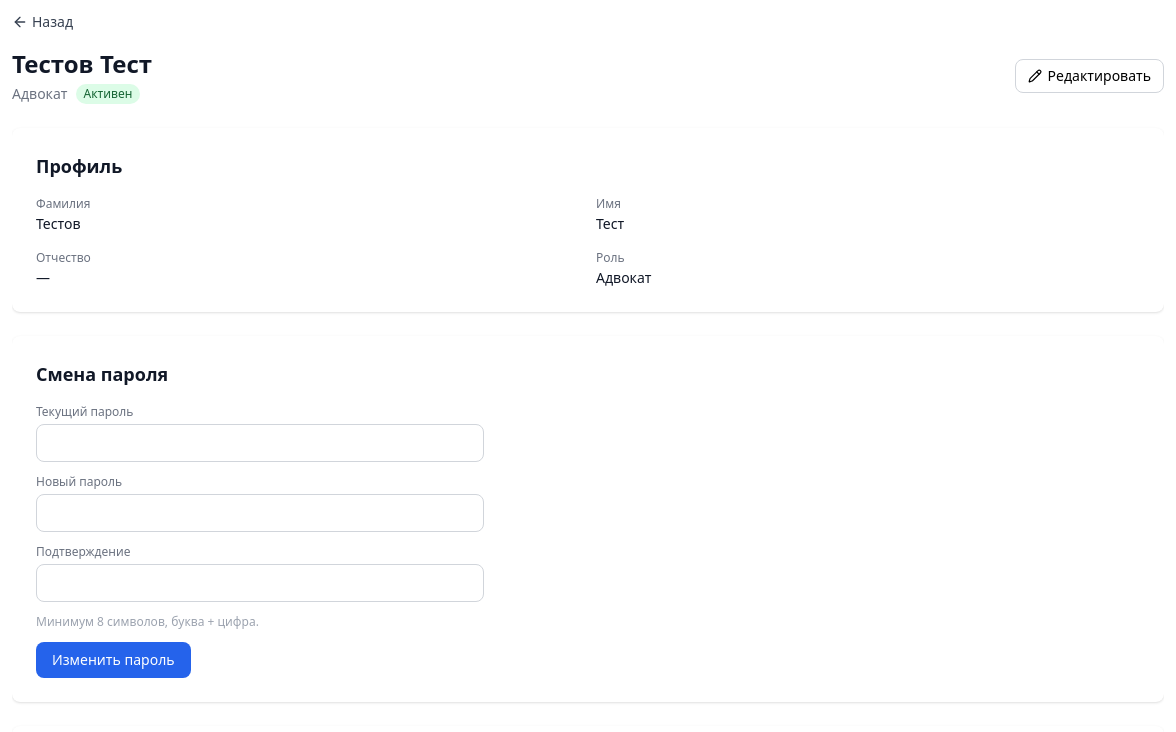
Test: Change password › validates letter + digit requirement
Expected: the password field labelled "Новый пароль" is shown, [36, 494, 484, 532]
In the password field labelled "Текущий пароль": (260, 443) [36, 424, 484, 462], type "OldPass1"
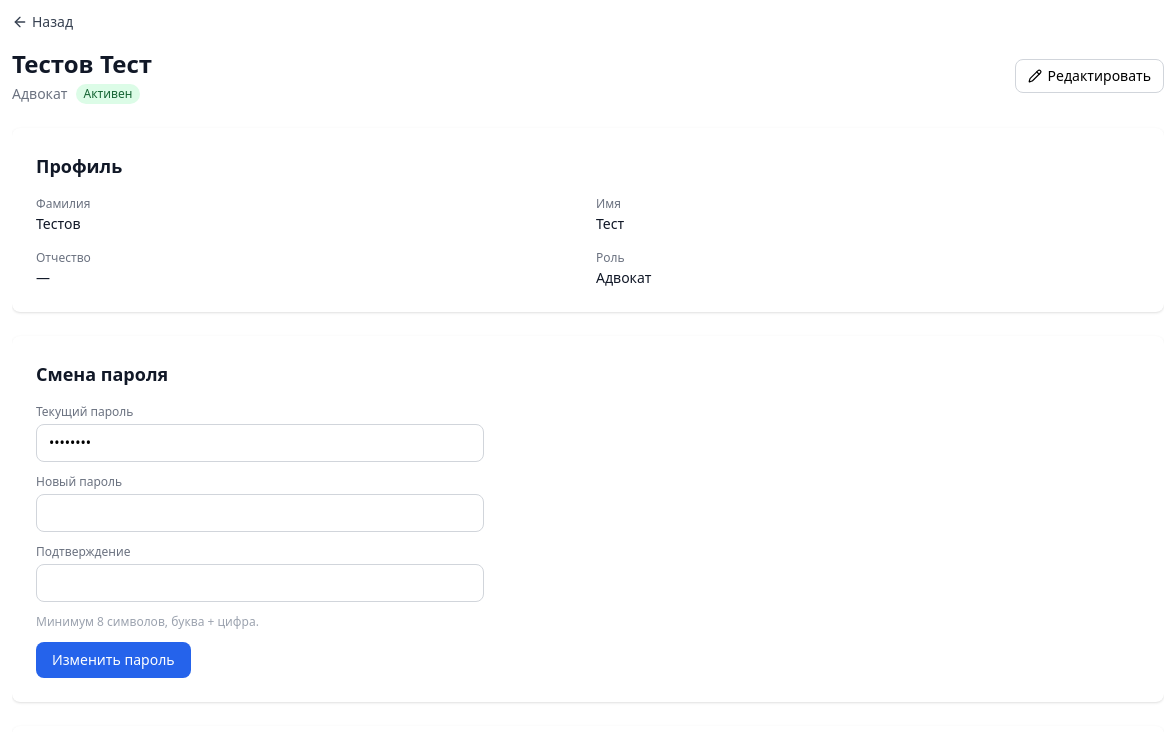
In the password field labelled "Новый пароль": (260, 513) [36, 494, 484, 532], type "abcdefgh"
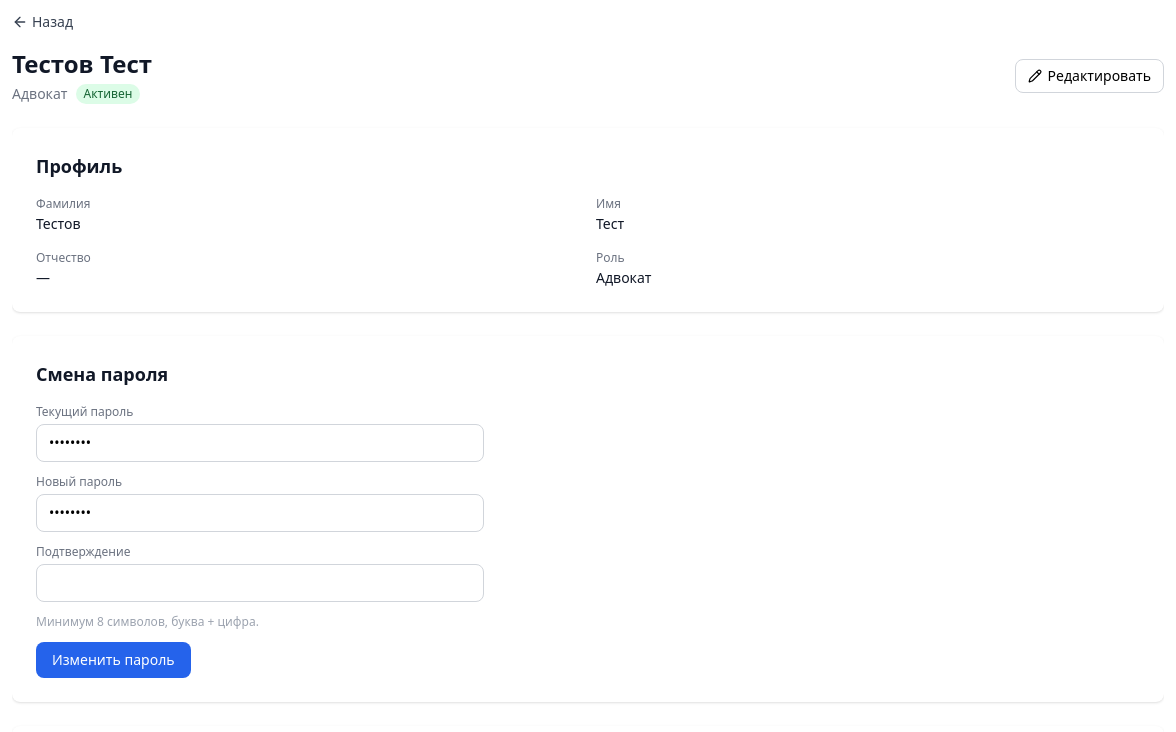
In the password field labelled "Подтверждение": (260, 583) [36, 564, 484, 602], type "abcdefgh"
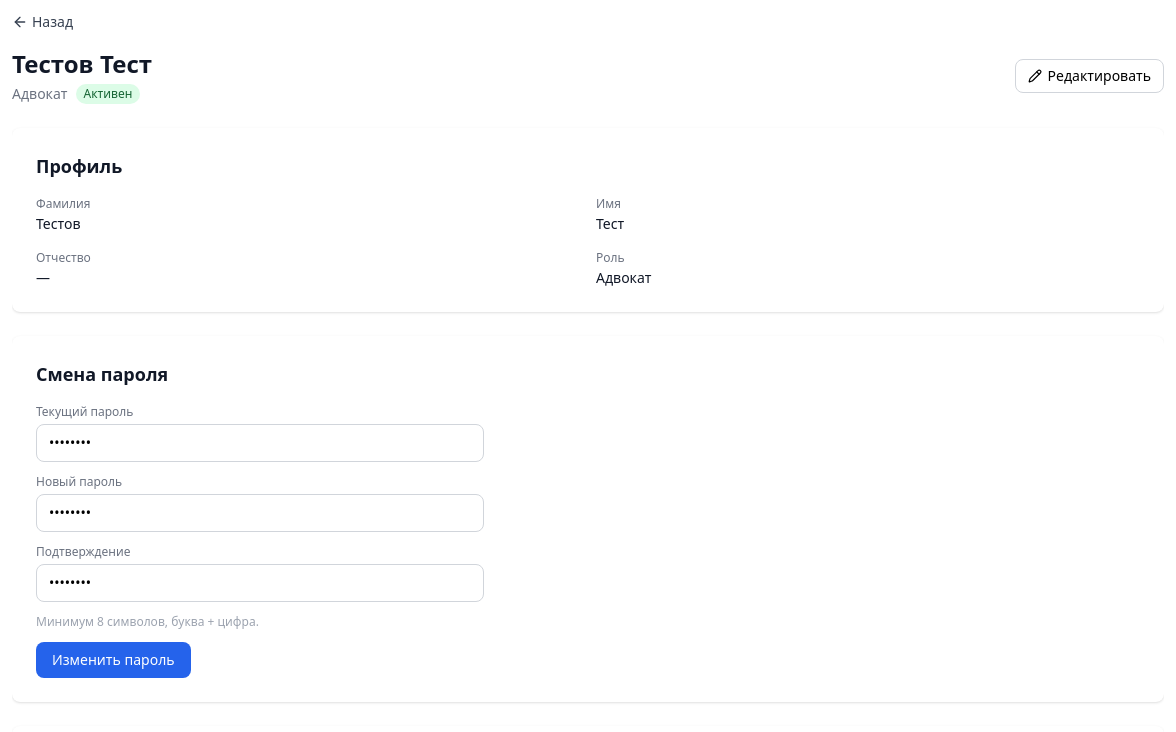
Click the button "Изменить пароль": (113, 660) [36, 642, 191, 678]
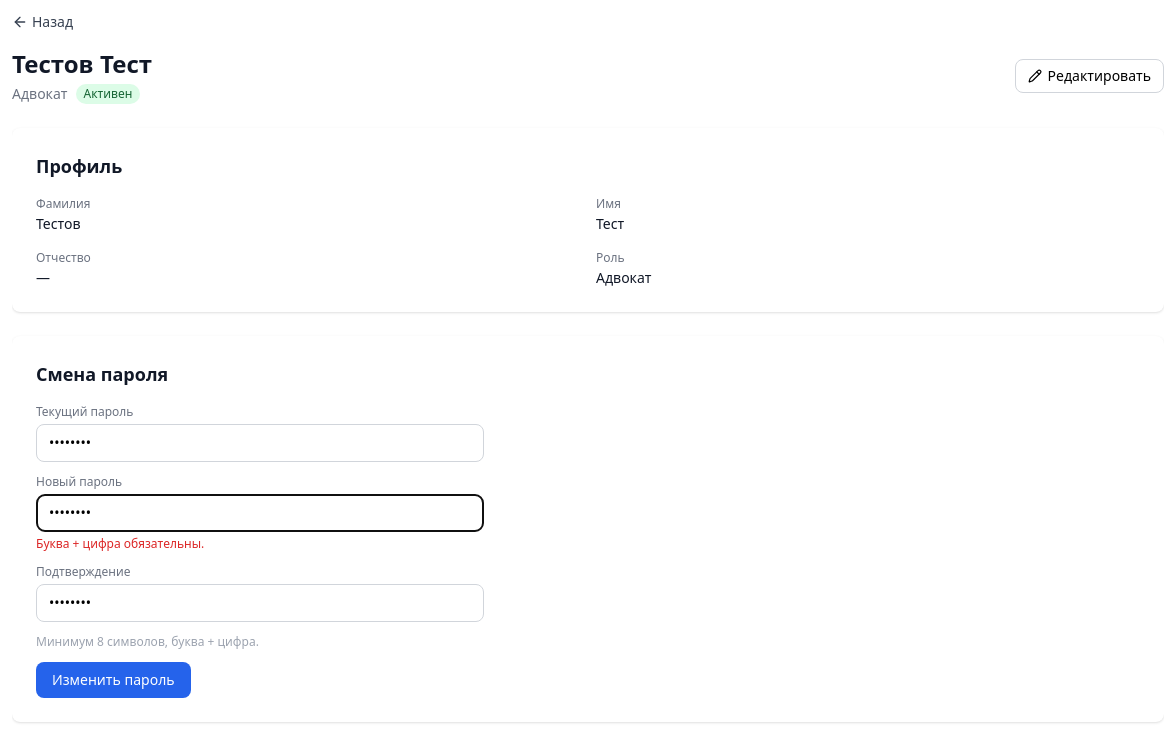
Result: the text "Буква + цифра обязательны." is shown at [36, 535, 204, 552]
